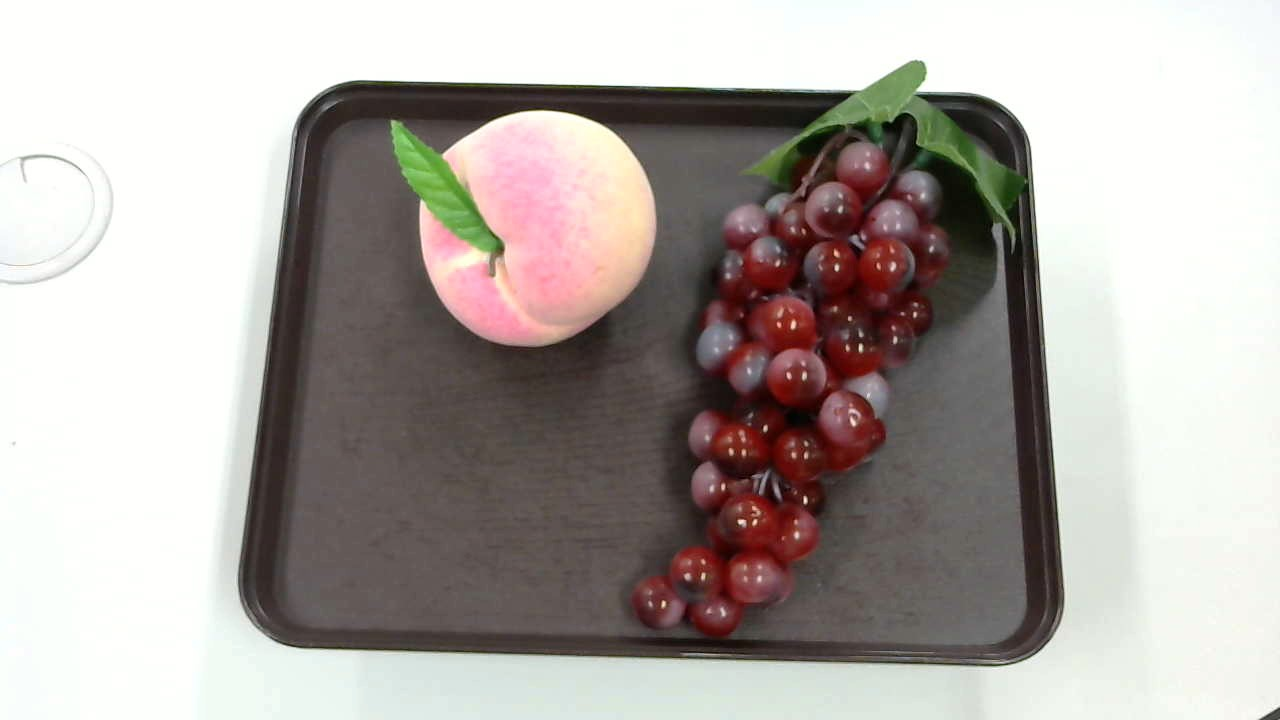grape: (630, 59, 1029, 635)
peach: (386, 107, 659, 349)
